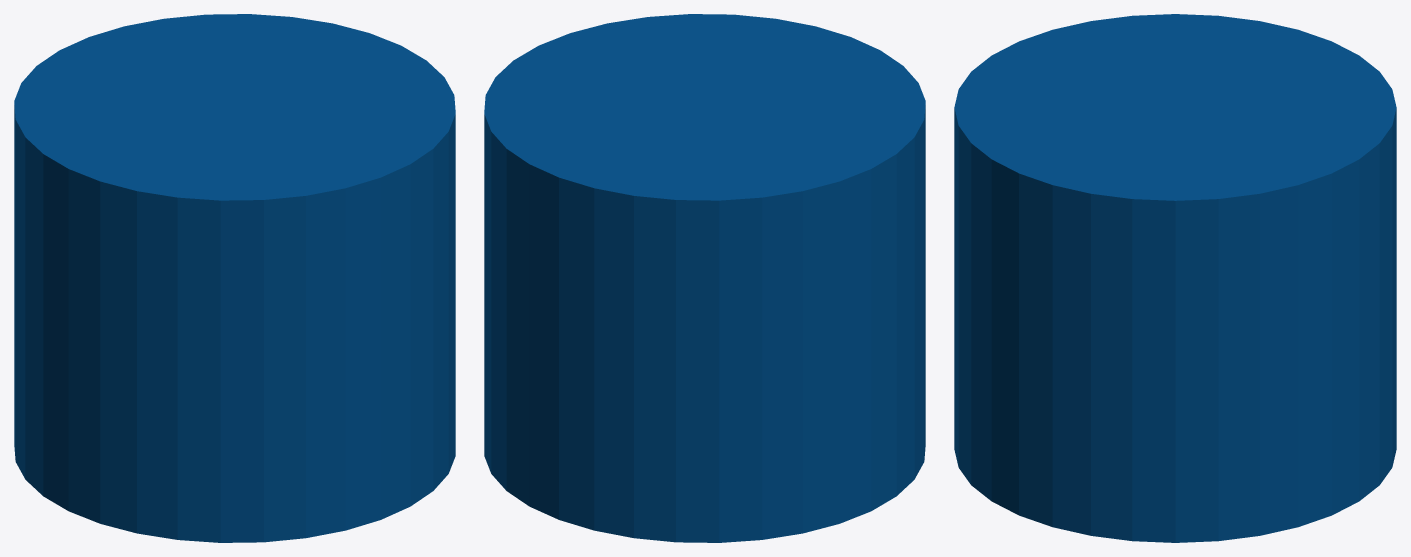
Rendered from cup_blue.dae.
3 views of the same model, side by side, from view 1: azimuth 30°, elevation 25°; view 2: azimuth 150°, elevation 25°; view 3: azimuth 270°, elevation 25° (orthographic).
Visible parts, largest first — view 1: Cylinder; view 2: Cylinder; view 3: Cylinder.
Boxes of the visible parts, left/top/right/bottom form: Cylinder: left=14, top=14, right=455, bottom=542; Cylinder: left=484, top=14, right=925, bottom=542; Cylinder: left=954, top=14, right=1396, bottom=542.
Size of the model in its own units: 0.082 by 0.082 by 0.07.
